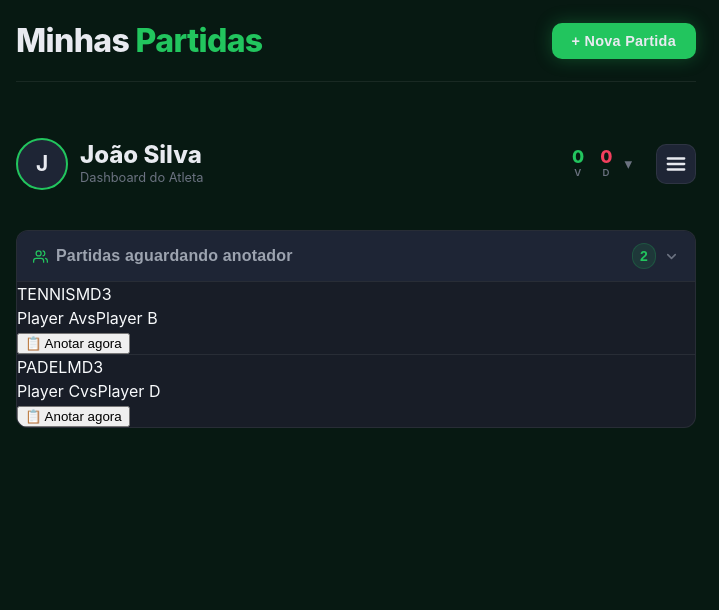
Test: Dashboard — Seção colapsável: Partidas aguardando anotador › deve colapsar ao clicar no cabeçalho
This screenshot has width=719, height=610.
Click the button with test id "hamburger-btn".
click(676, 164)  # box [656,144,696,184]
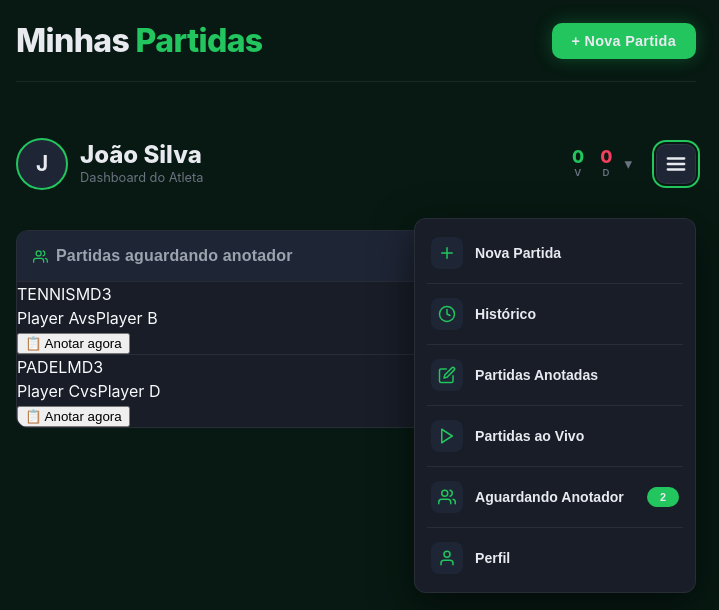
Click the menu item with test id "menu-pending".
click(555, 497)  # box [415,469,695,525]
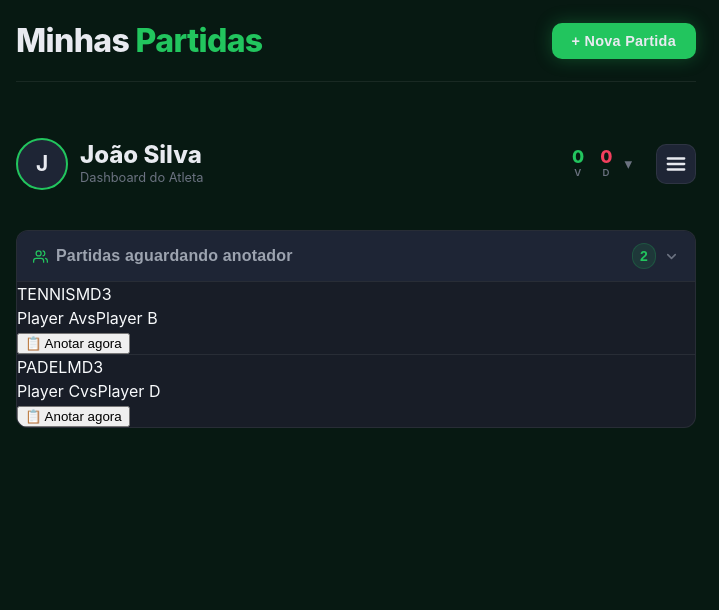
Click the button "Partidas aguardando anotador 2".
click(174, 256)  # box [17,231,695,281]
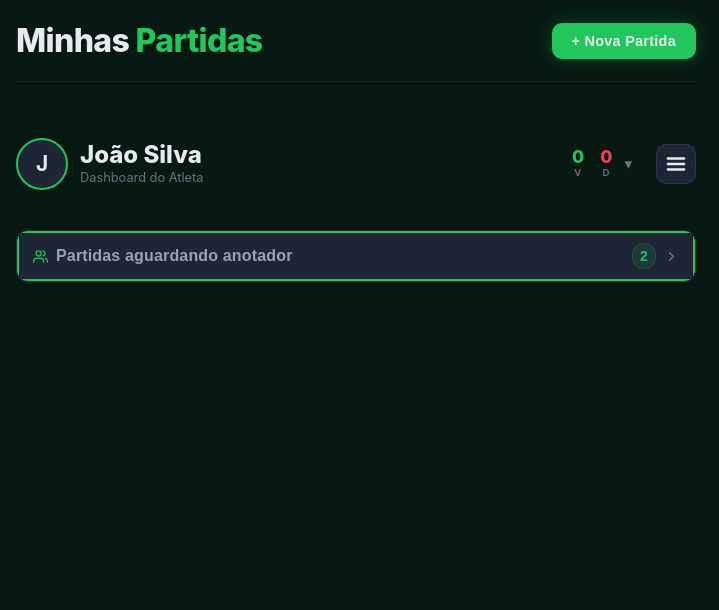
Check: the button "Partidas aguardando anotador 2" is collapsed, box [17,231,695,281]
